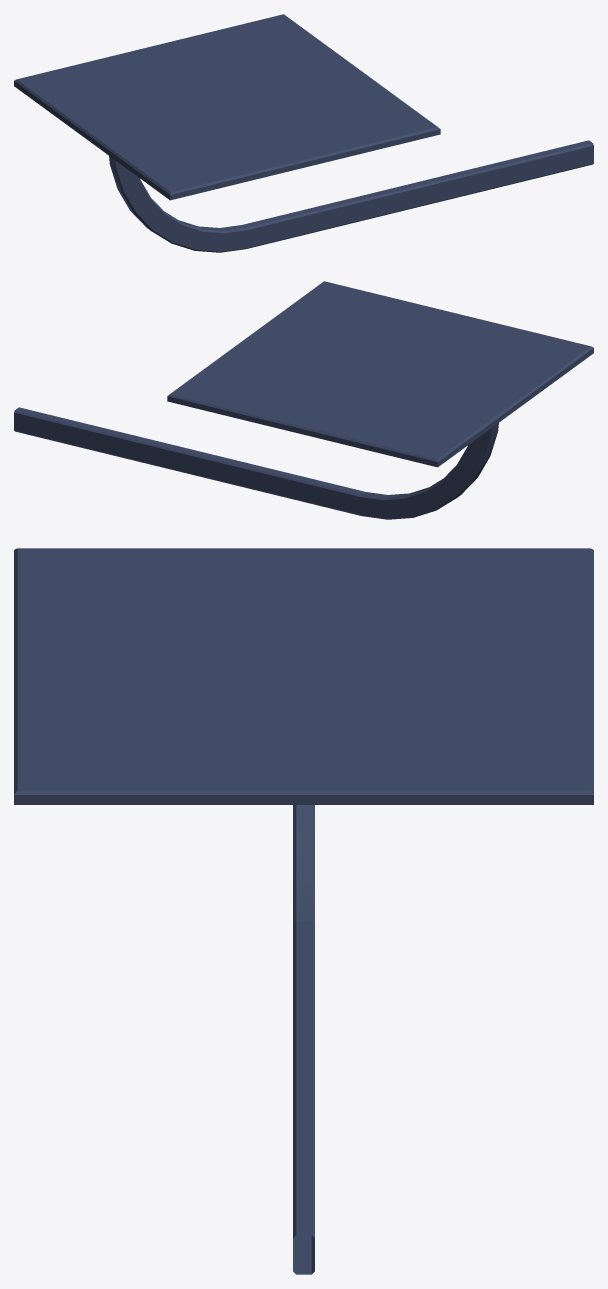
Rendered from arena_flipper.fbx.
3 renders of one model, top to bottom at view 1: azimuth 30°, elevation 25°; view 2: azimuth 150°, elevation 25°; view 3: azimuth 270°, elevation 25°, orthographic. The views are drawn at different scales.
Visible parts, largest first — view 1: arena_flipper; view 2: arena_flipper; view 3: arena_flipper.
Boxes of the visible parts, box(x1,y1,x2,y2) form: arena_flipper: box(14, 14, 593, 252); arena_flipper: box(14, 281, 593, 519); arena_flipper: box(14, 548, 593, 1274).
Bounding box in the file's own units: 369 × 105 × 200.
